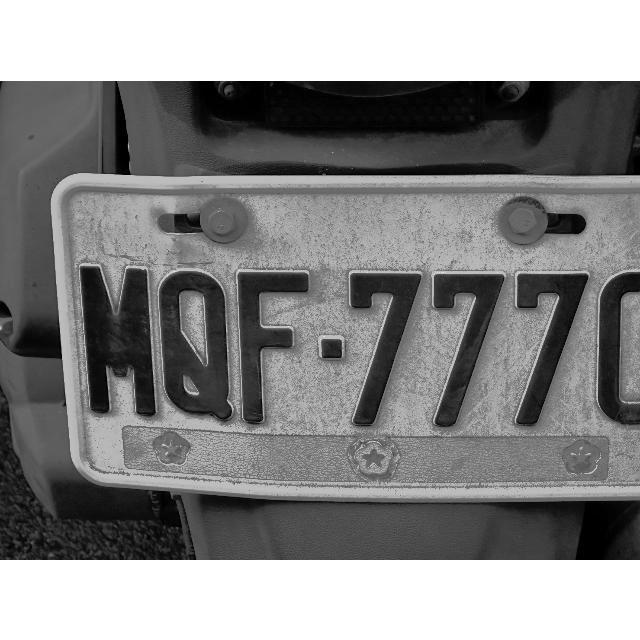-: (316, 330, 348, 370)
7: (428, 268, 508, 432), (344, 266, 422, 434), (512, 269, 590, 431)
F: (233, 264, 315, 430)
M: (76, 257, 160, 425)
Q: (158, 260, 236, 428)
